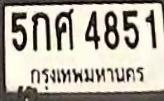1: (144, 8, 155, 48)
4: (84, 9, 99, 50)
5: (10, 10, 26, 50), (122, 9, 138, 48)
8: (102, 10, 119, 49)
A01: (31, 10, 50, 50)
A38: (54, 8, 73, 50)
BKK: (23, 63, 148, 85)
